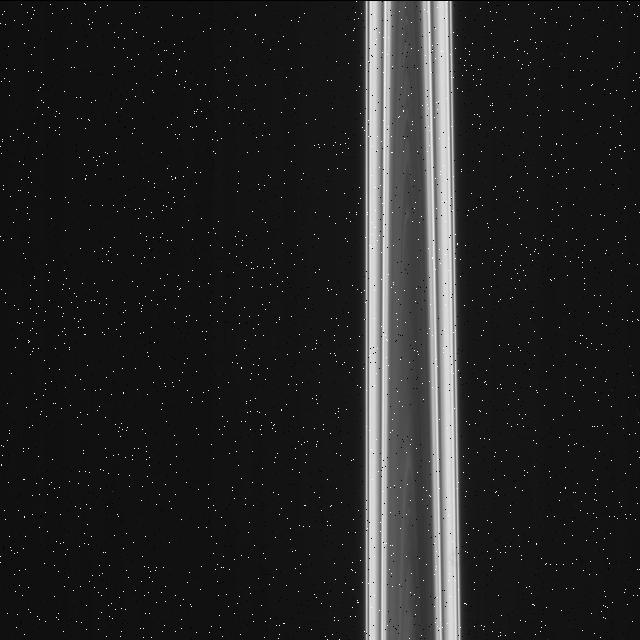Saturn: (363, 0, 464, 640)
